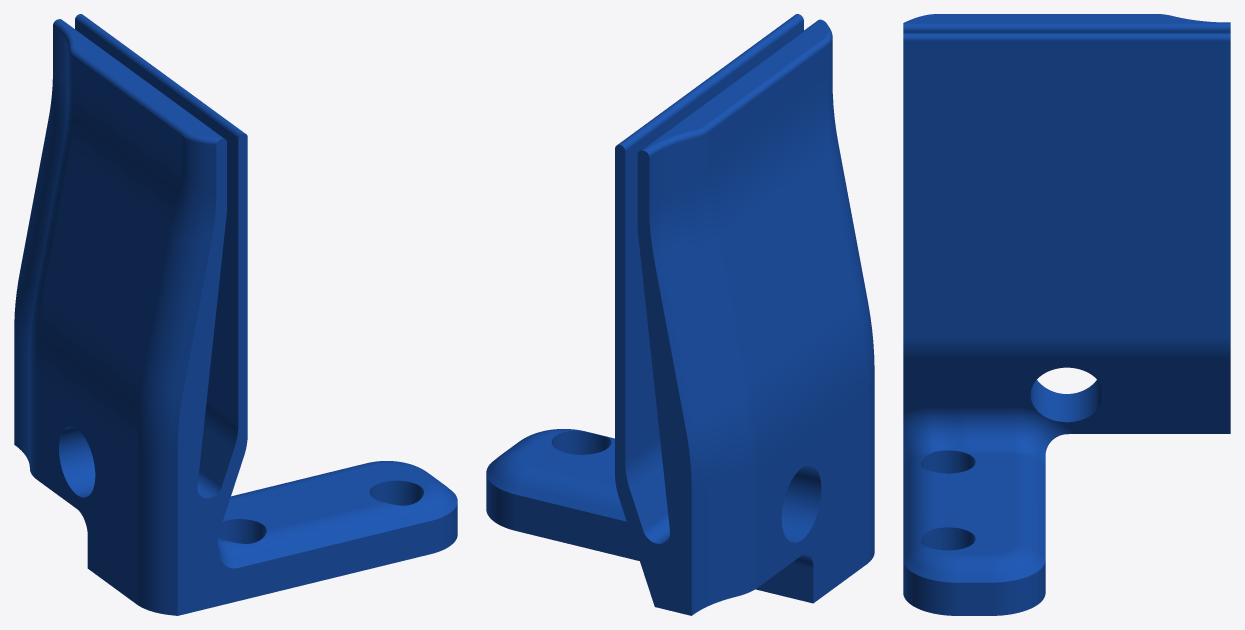
The model's file is Assembly 2 - Gripper finger_1.obj.
The picture shows the model from 3 angles, left to right: view 1: azimuth 30°, elevation 25°; view 2: azimuth 150°, elevation 25°; view 3: azimuth 270°, elevation 25°; orthographic projection. The views are drawn at different scales.
Parts seen in each view (by area): view 1: mesh108, mesh56, mesh38, mesh51, mesh67, mesh16, mesh36, mesh65, mesh110, mesh10, mesh72, mesh58 (+25 smaller); view 2: mesh56, mesh109, mesh38, mesh51, mesh67, mesh58, mesh30, mesh110, mesh45, mesh69, mesh72, mesh95 (+26 smaller); view 3: mesh34, mesh112, mesh32, mesh33, mesh16, mesh95, mesh25, mesh116, mesh86, mesh4, mesh103, mesh10 (+18 smaller).
Part boxes in pixels (left/top/right/bottom): mesh108: left=177, top=207, right=430, bottom=615; mesh56: left=44, top=154, right=170, bottom=367; mesh38: left=37, top=374, right=136, bottom=603; mesh51: left=37, top=296, right=143, bottom=446; mesh67: left=71, top=87, right=176, bottom=226; mesh16: left=222, top=464, right=425, bottom=530; mesh36: left=136, top=447, right=169, bottom=614; mesh65: left=144, top=227, right=203, bottom=381; mesh110: left=206, top=201, right=238, bottom=422; mesh10: left=234, top=500, right=426, bottom=559; mesh72: left=72, top=57, right=181, bottom=163; mesh58: left=22, top=128, right=62, bottom=284; mesh56: left=721, top=152, right=858, bottom=385; mesh109: left=615, top=225, right=691, bottom=615; mesh38: left=758, top=392, right=866, bottom=603; mesh51: left=750, top=306, right=866, bottom=471; mesh67: left=714, top=78, right=829, bottom=230; mesh58: left=657, top=247, right=727, bottom=417; mesh30: left=516, top=494, right=813, bottom=603; mesh110: left=625, top=219, right=659, bottom=461; mesh45: left=692, top=481, right=736, bottom=614; mesh69: left=700, top=232, right=749, bottom=396; mesh72: left=708, top=45, right=828, bottom=161; mesh95: left=664, top=20, right=826, bottom=136; mesh34: left=903, top=110, right=1230, bottom=337; mesh112: left=903, top=41, right=1230, bottom=110; mesh32: left=903, top=358, right=1230, bottom=433; mesh33: left=903, top=338, right=1230, bottom=357; mesh16: left=935, top=454, right=1013, bottom=553; mesh95: left=904, top=14, right=1191, bottom=23; mesh25: left=1013, top=454, right=1039, bottom=553; mesh116: left=903, top=33, right=1191, bottom=40; mesh86: left=903, top=23, right=1191, bottom=30; mesh4: left=968, top=407, right=1013, bottom=454; mesh103: left=1030, top=380, right=1103, bottom=422; mesh10: left=909, top=455, right=934, bottom=553.
Bounding box in the file's own units: 0.0507 × 0.0709 × 0.045.
